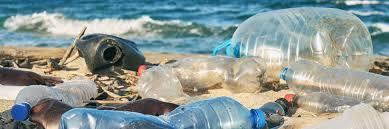Plastic: (218, 10, 379, 78), (47, 91, 269, 128), (272, 55, 388, 104), (8, 67, 99, 123), (74, 18, 145, 81)
